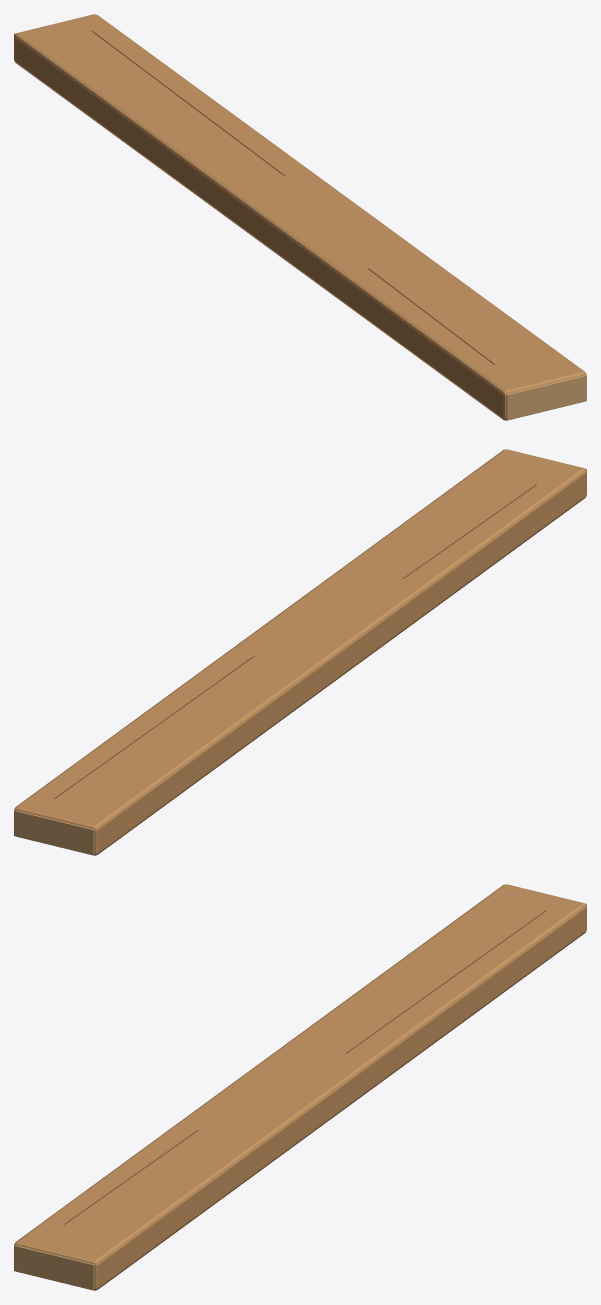
The model's file is cargo_planks.glb.
The picture shows the model from 3 angles, top to bottom: view 1: azimuth 30°, elevation 25°; view 2: azimuth 150°, elevation 25°; view 3: azimuth 330°, elevation 25°; orthographic projection.
Parts seen in each view (by area): view 1: cargo_planks__structure, cargo_planks__finish; view 2: cargo_planks__structure, cargo_planks__finish; view 3: cargo_planks__structure, cargo_planks__finish.
Boxes of the visible parts, x1,y1,x2,y2 form: cargo_planks__structure: (14, 14, 586, 420); cargo_planks__finish: (14, 31, 586, 420); cargo_planks__structure: (14, 449, 586, 855); cargo_planks__finish: (14, 468, 586, 855); cargo_planks__structure: (14, 884, 586, 1290); cargo_planks__finish: (14, 903, 586, 1290).
Size of the model in its own units: 0.205 by 0.072 by 2.09.
